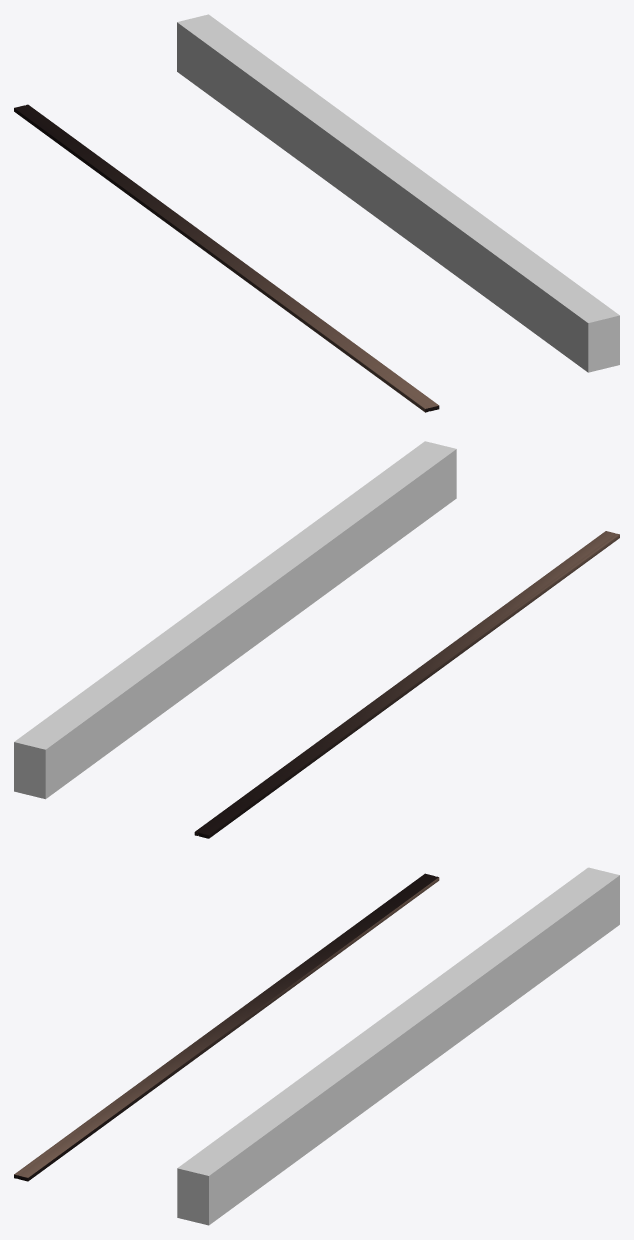
The model's file is 10m plank.fbx.
The picture shows the model from 3 angles, top to bottom: view 1: azimuth 30°, elevation 25°; view 2: azimuth 150°, elevation 25°; view 3: azimuth 330°, elevation 25°; orthographic projection.
Visible parts, largest first — view 1: Box005, Box001; view 2: Box005, Box001; view 3: Box005, Box001.
Boxes of the visible parts, <box> form: Box005: <box>177,14,619,372</box>; Box001: <box>14,104,439,412</box>; Box005: <box>14,441,456,799</box>; Box001: <box>194,531,619,838</box>; Box005: <box>177,867,619,1225</box>; Box001: <box>14,873,439,1181</box>.
Size of the model in its own units: 2736 by 664 by 10006.
